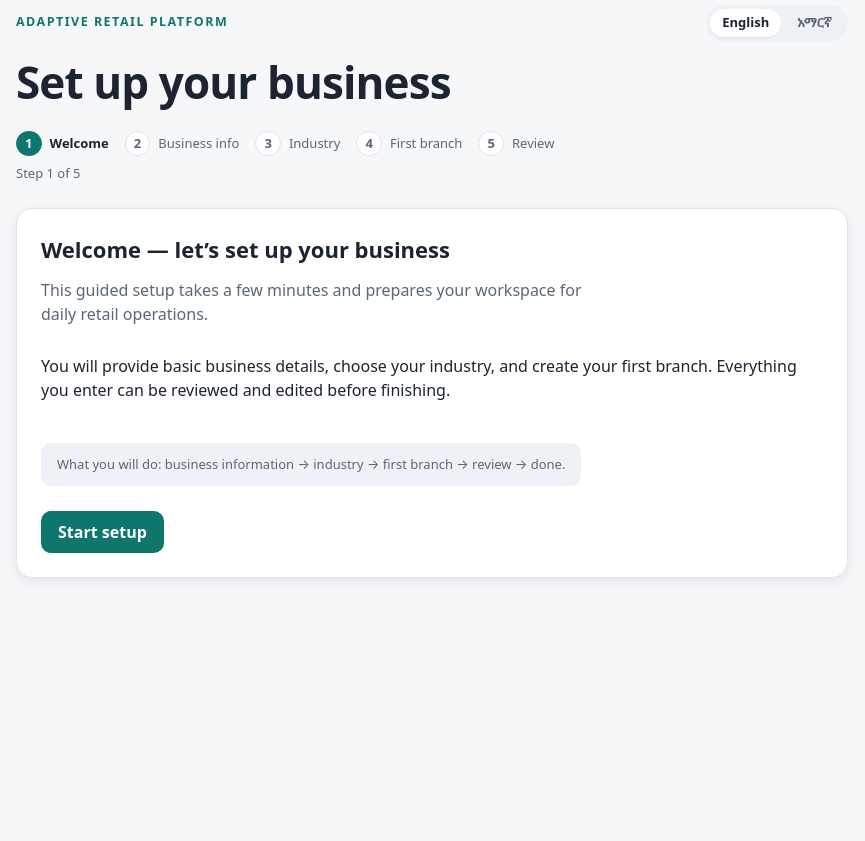
OnboardingPage › shows all entered data on the review step with edit shortcuts
The image size is (865, 841).
Click the button "Start setup" at (102, 532), box [41,511,164,553]
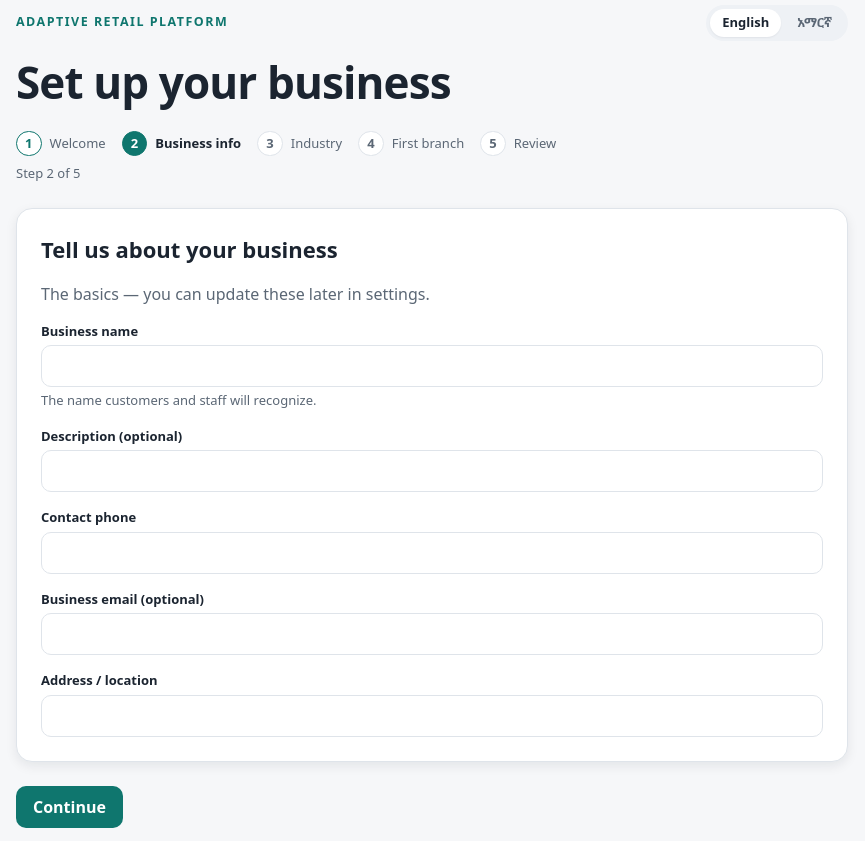
Type "Addis Fresh Market" into the field labelled "Business name" at (432, 366), box [41,345,823,387]
Click the button "Continue" at (69, 807), box [16,786,123,828]
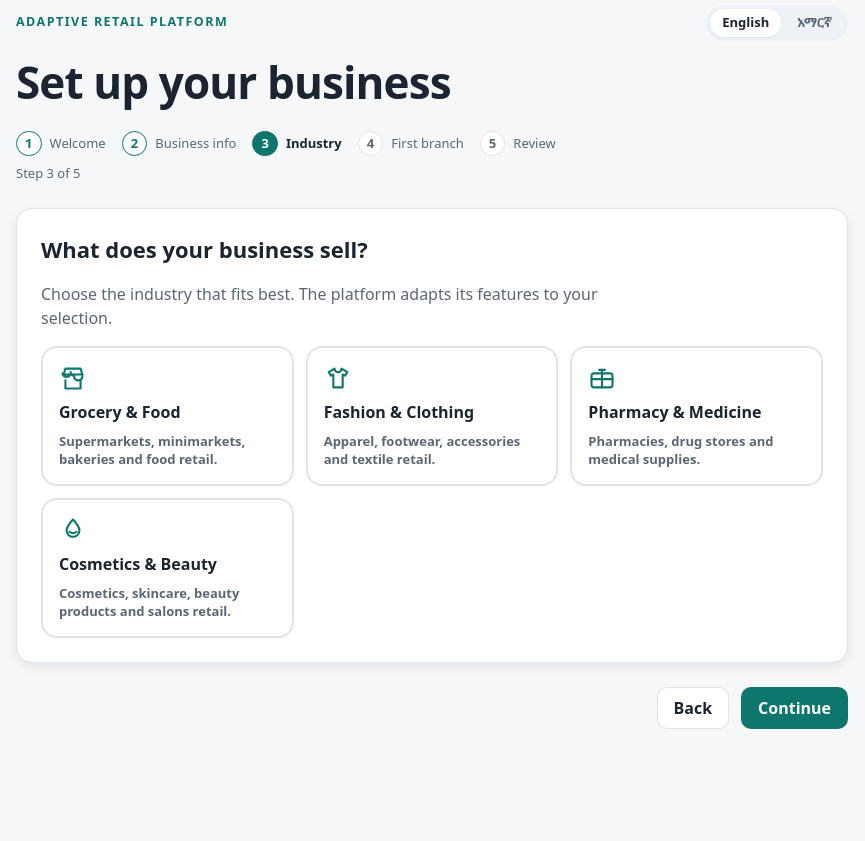
Click the button "Grocery & Food" at (167, 416), box [41,346,294,486]
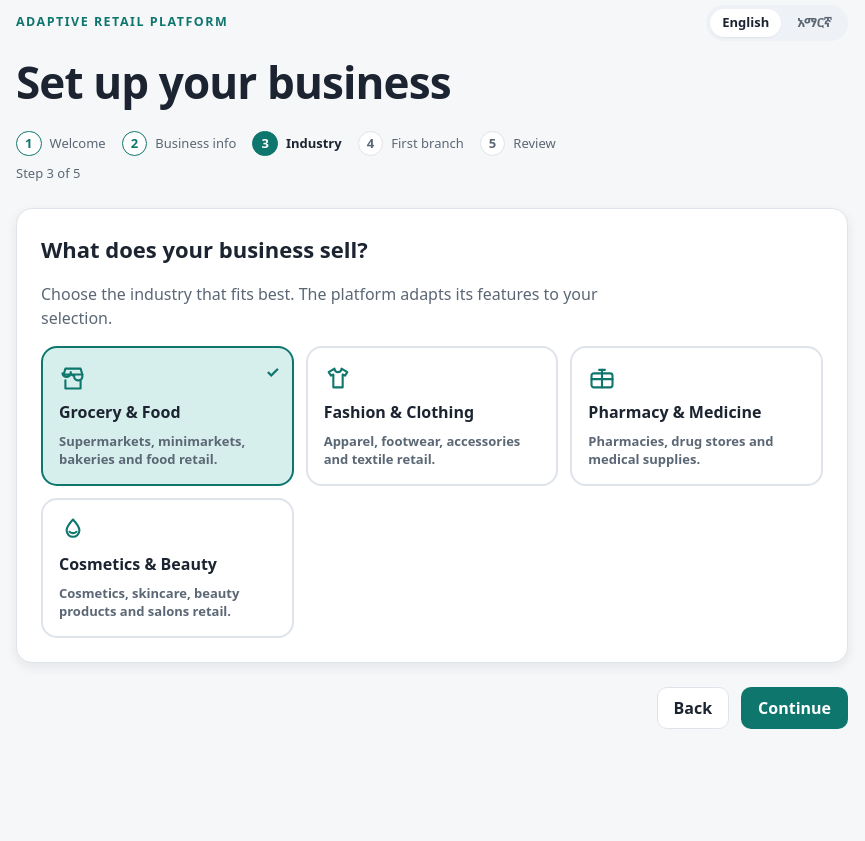
Click the button "Continue" at (795, 708), box [741,687,848,729]
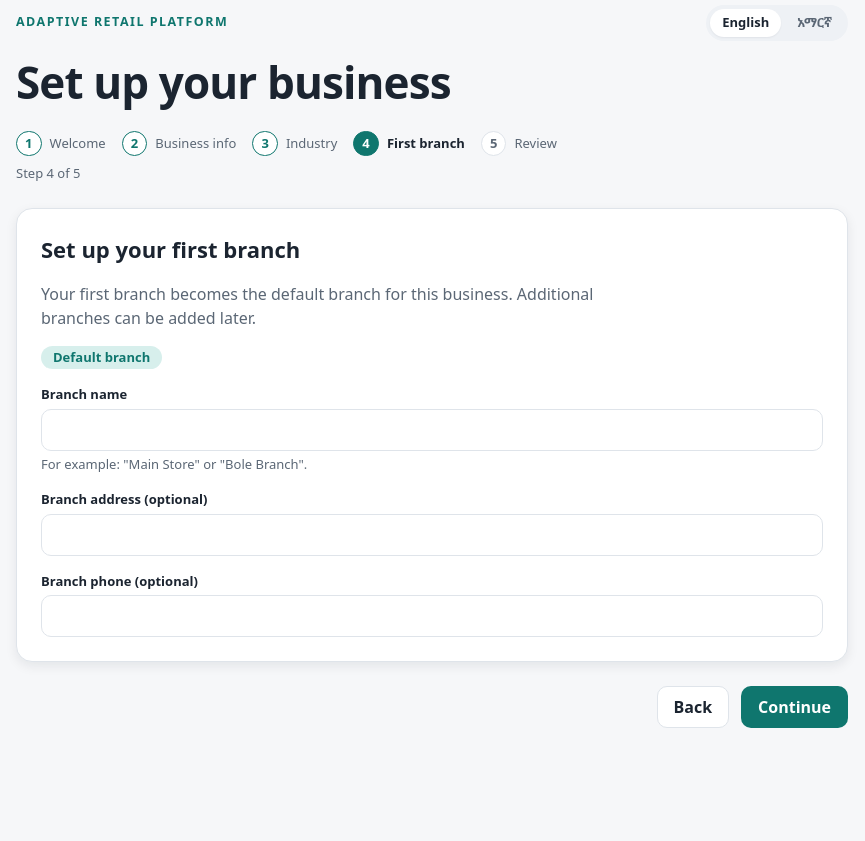
Type "Main Store" into the field labelled "Branch name" at (432, 430), box [41,409,823,451]
Click the button "Continue" at (795, 707), box [741,686,848,728]
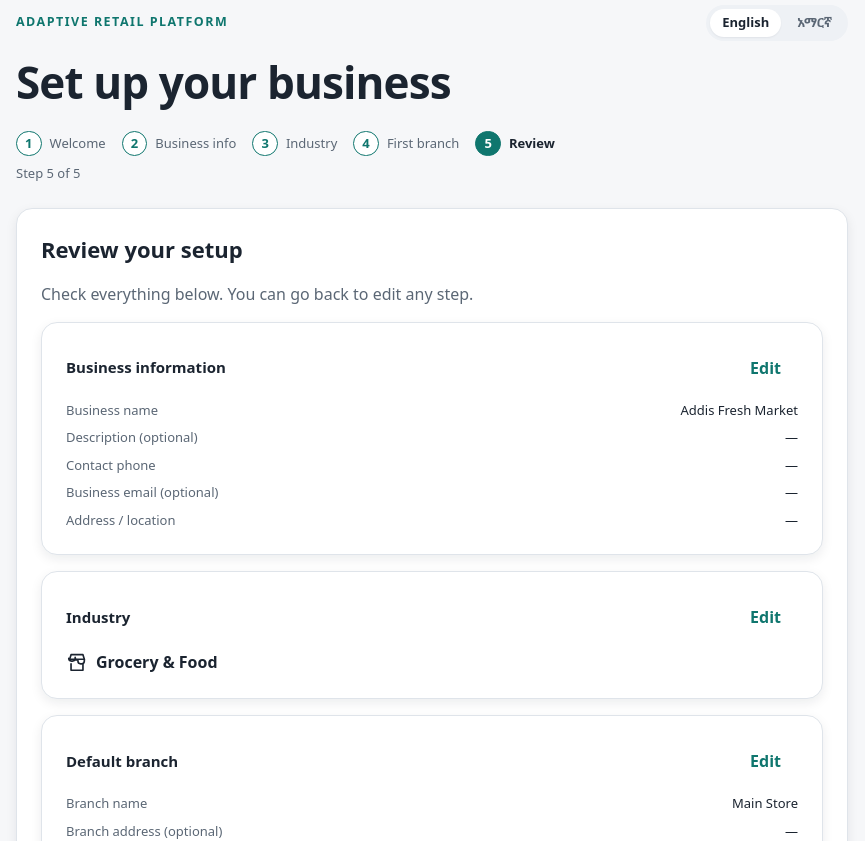
Now the text "Main Store" is shown, box [732,794,798,814]
Now the text "Addis Fresh Market" is shown, box [680,401,798,420]
Now the text "Grocery & Food" is shown, box [66,651,218,673]
Click the 2nd button "Edit" at (766, 617), box [733,596,798,638]
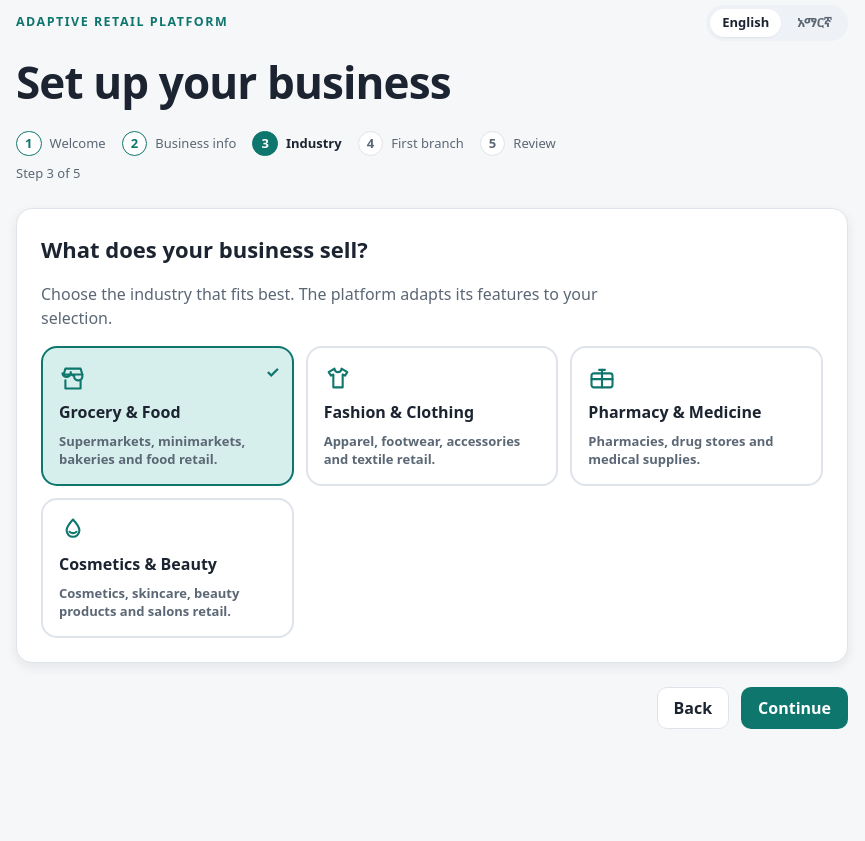
Now the button "Pharmacy & Medicine" is shown, box [570,346,823,486]
